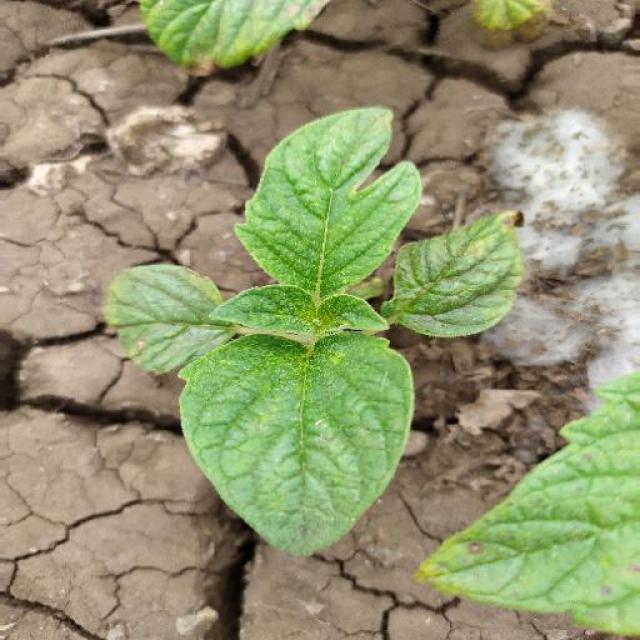crop: (94, 96, 536, 559)
